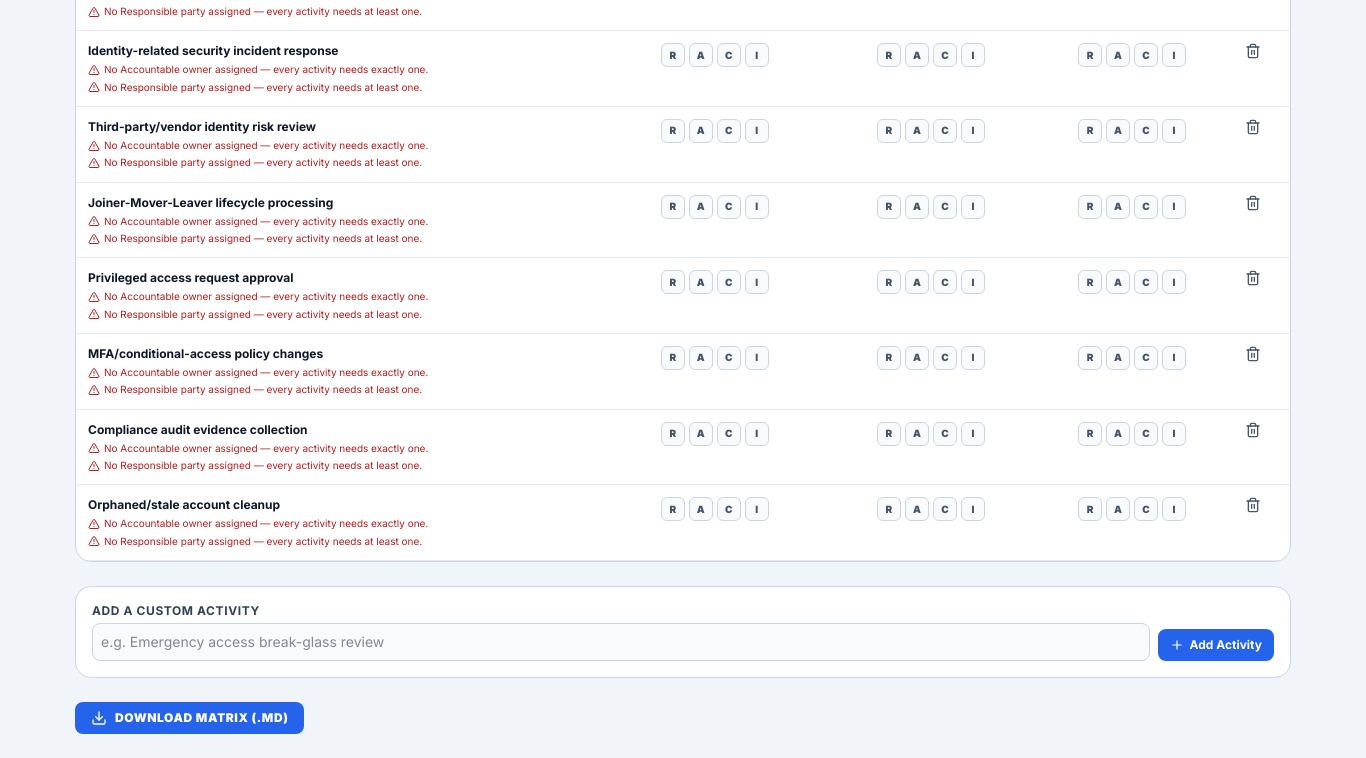
Test: RaciBuilder page › adds a custom activity row
(page scrolled)
Type "Custom test activity" into the field with placeholder "e.g. Emergency access break-glass review" at (621, 642), box [92, 623, 1150, 661]
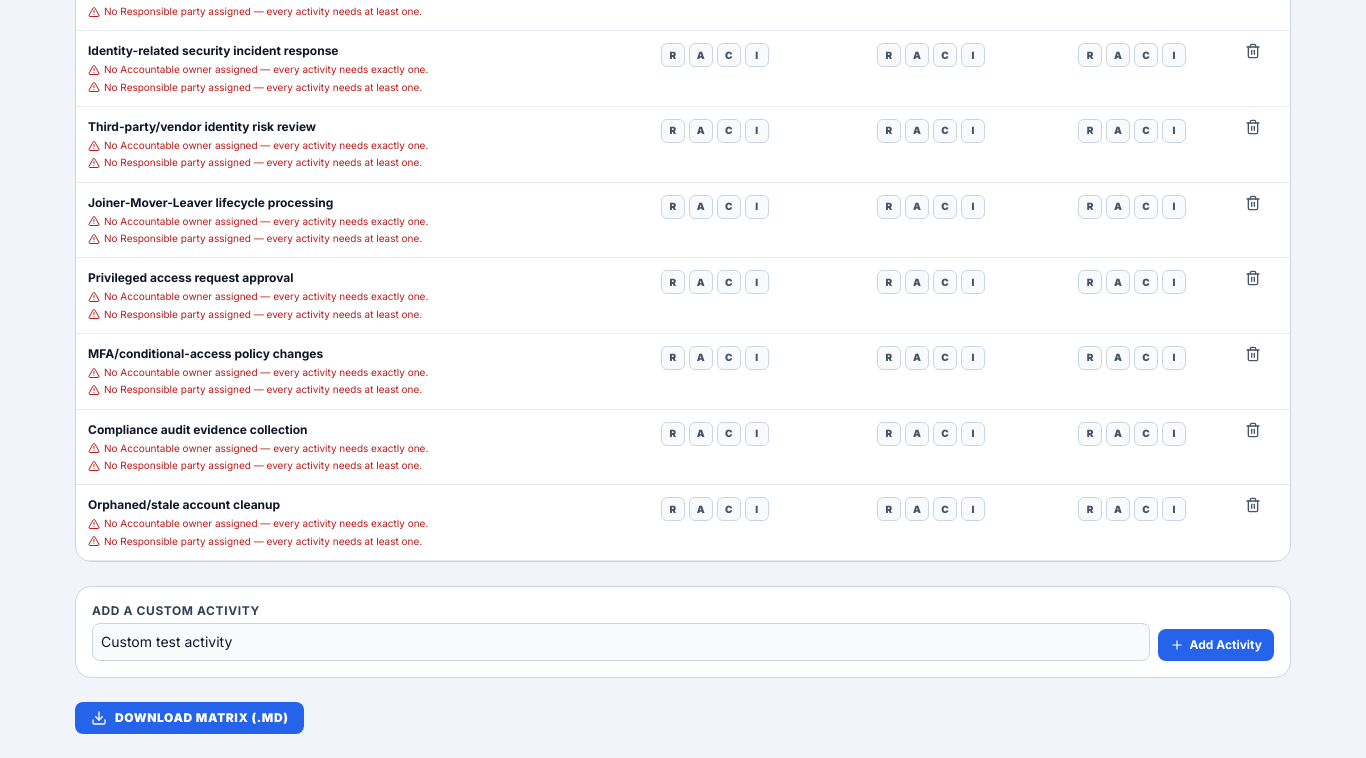
Click the button "Add Activity" at (1216, 645), box [1158, 629, 1274, 661]
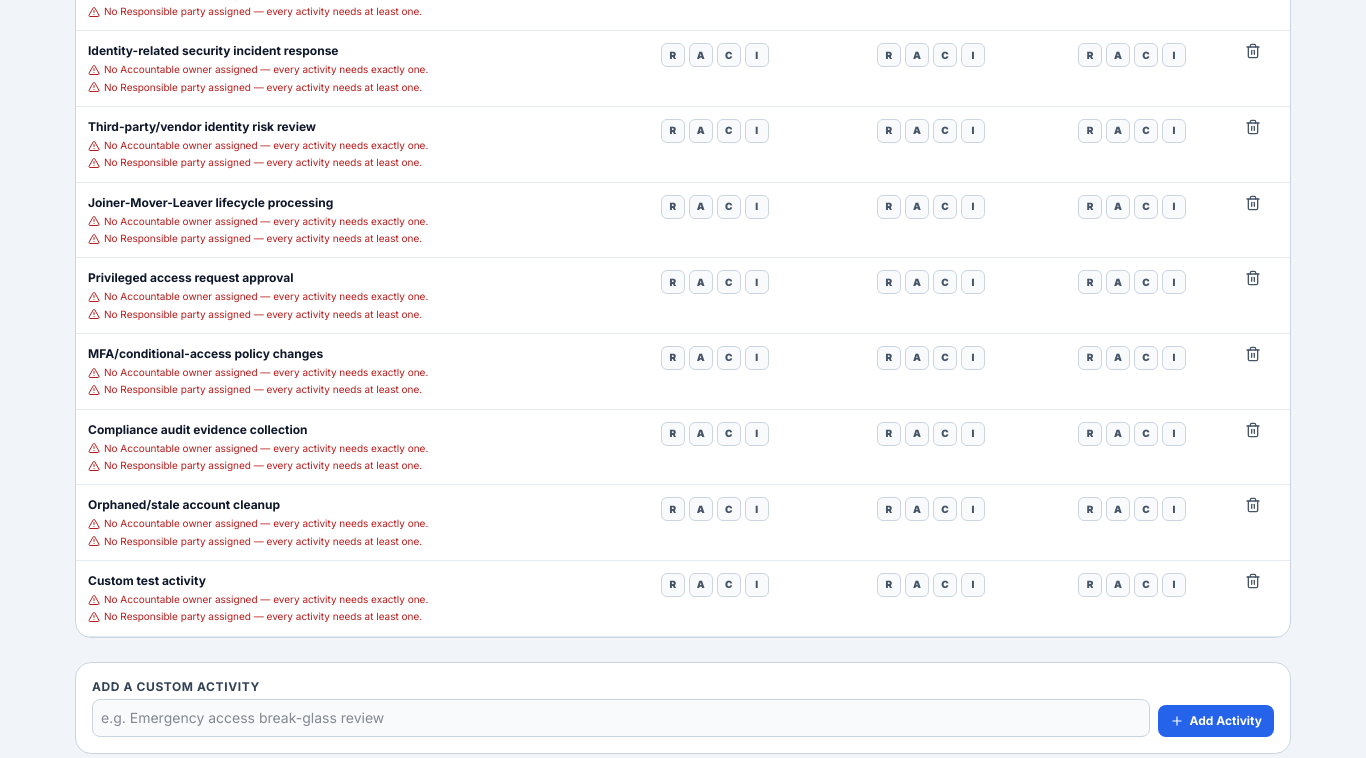
Expected: the text "Custom test activity" is shown, [88, 573, 206, 588]
